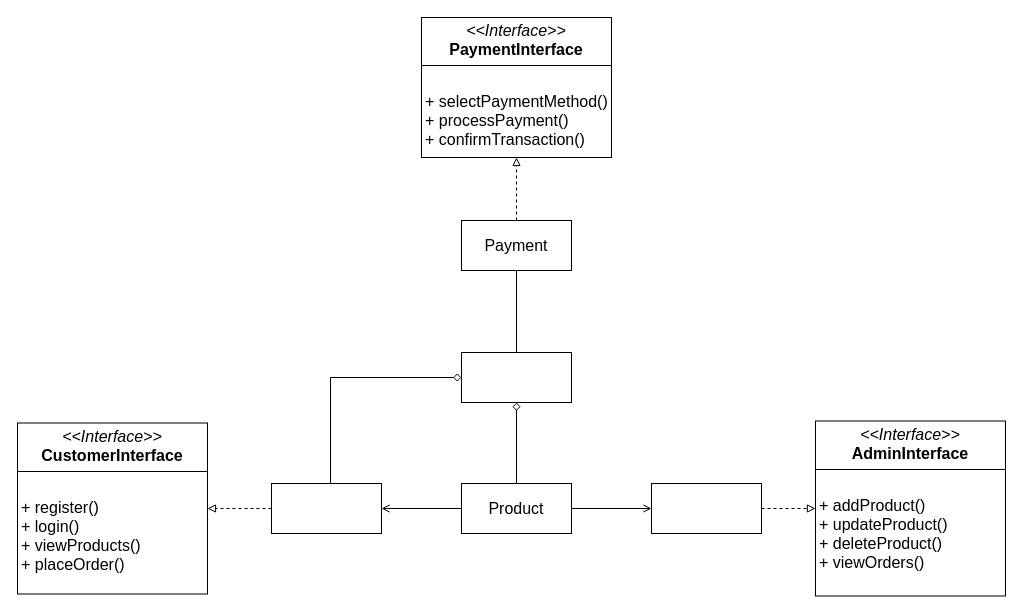
Some shapes in this 1023 by 614 pixel diagram are drawn without their labels. Each missing label, with the box of its shape:
Admin: (650, 482, 762, 534)
Customer: (270, 482, 382, 534)
Order: (460, 352, 572, 402)
